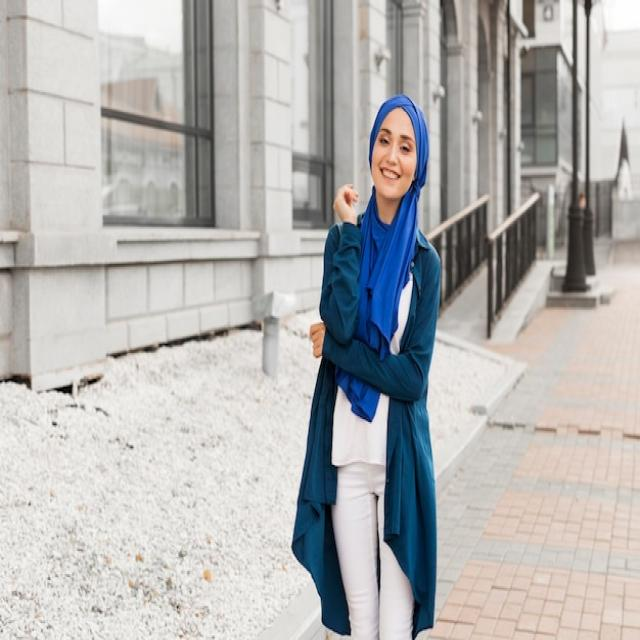Person: (290, 92, 441, 640)
